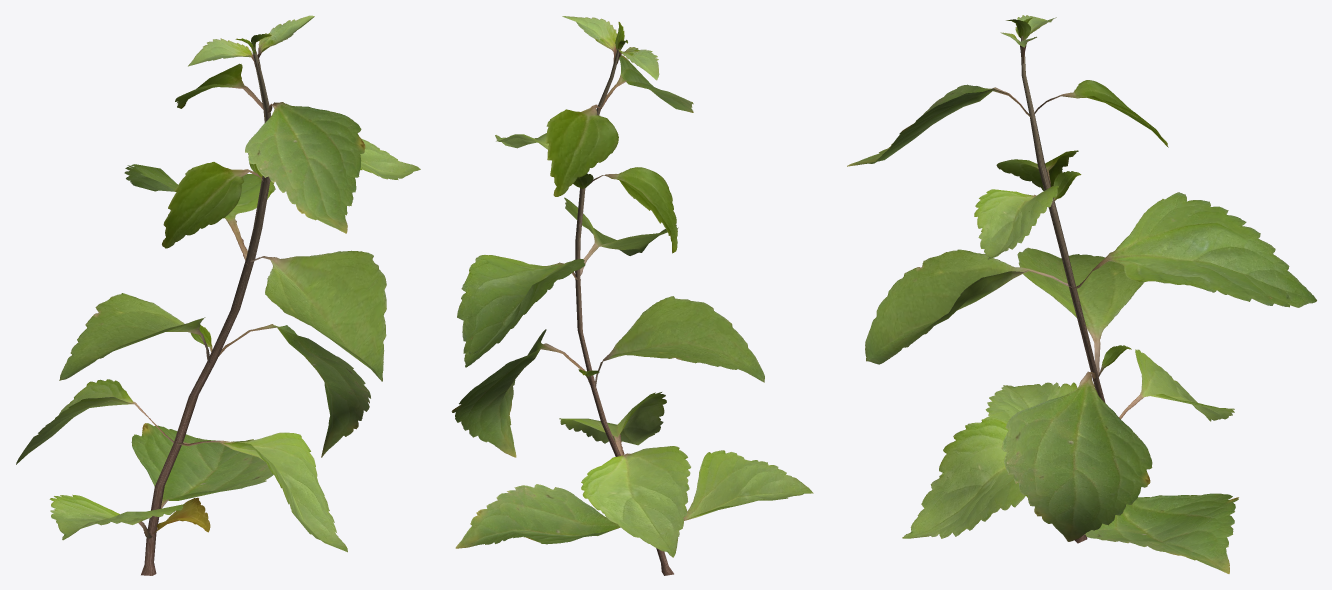
File: shrub_01_d_LOD1.glb
3 views of the same model, side by side, from view 1: azimuth 30°, elevation 25°; view 2: azimuth 150°, elevation 25°; view 3: azimuth 270°, elevation 25° (orthographic). The views are drawn at different scales.
Parts seen in each view (by area): view 1: shrub_01_d_LOD1__lod0; view 2: shrub_01_d_LOD1__lod0; view 3: shrub_01_d_LOD1__lod0.
Part boxes in pixels (x1=…): shrub_01_d_LOD1__lod0: x1=16, y1=15, x2=420, y2=575; shrub_01_d_LOD1__lod0: x1=451, y1=16, x2=813, y2=575; shrub_01_d_LOD1__lod0: x1=847, y1=15, x2=1316, y2=573.
Size of what is drawn, in the model's own units: 0.1354 by 0.2006 by 0.1523.
Materials: 1 (1 with a texture image).
